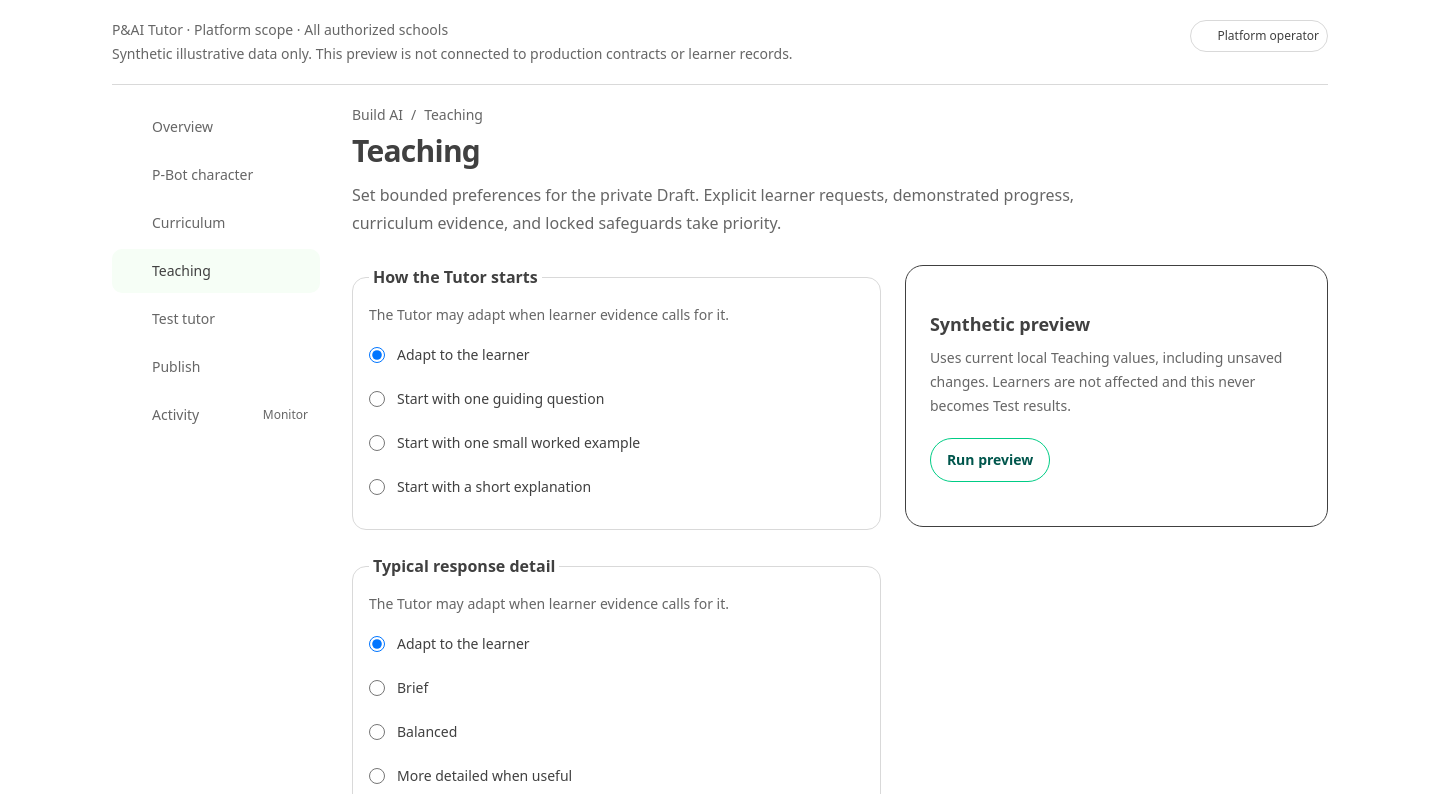
it: Build AI state transitions › keeps saved Teaching preferences across navigation and restores them on discard
The image size is (1440, 794).
Click the radio button labelled "Start with one guiding question" at (377,399), box 369,391 -> 385,407
(page scrolled)
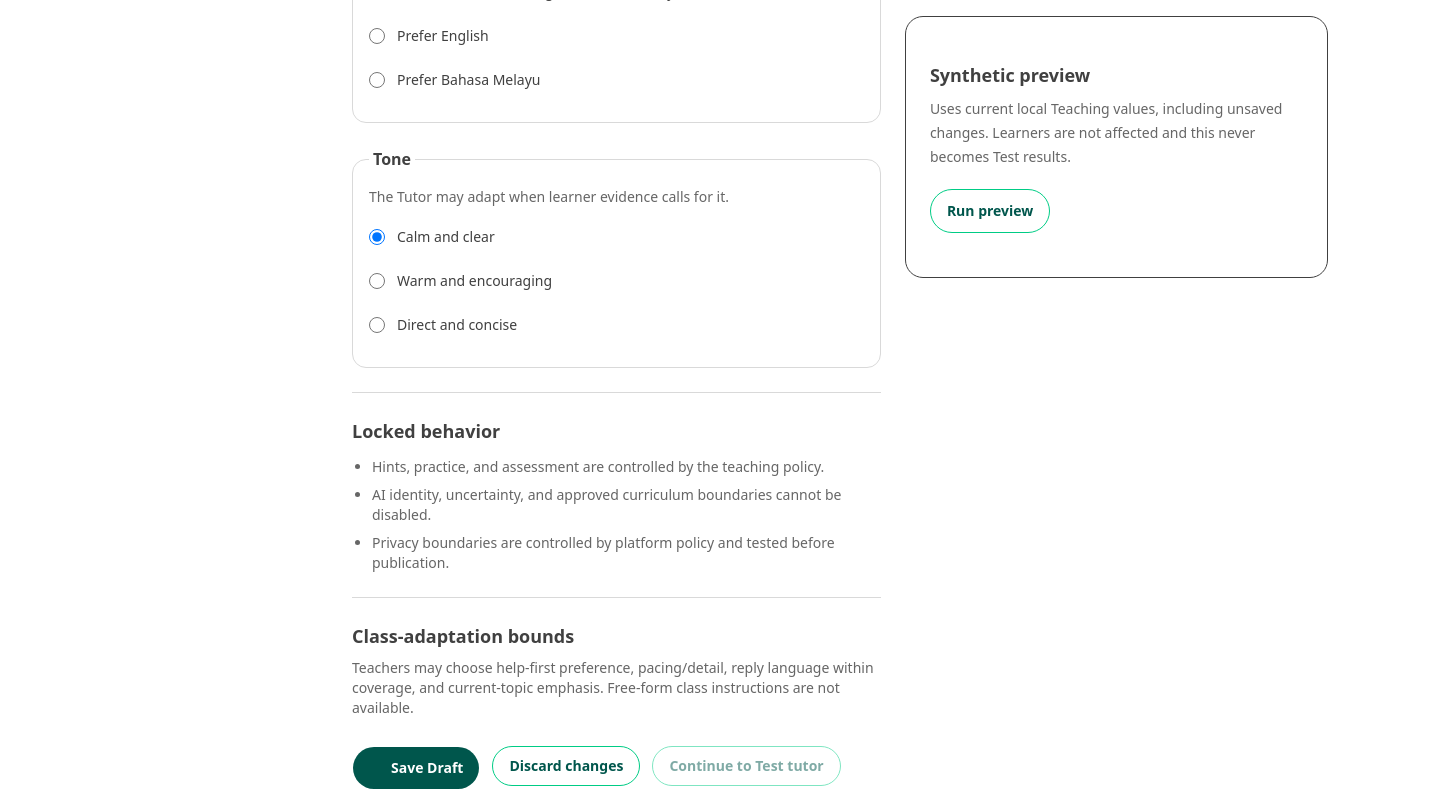
Click the button "Save Draft" at (416,768), box 352,746 -> 480,790
(page scrolled)
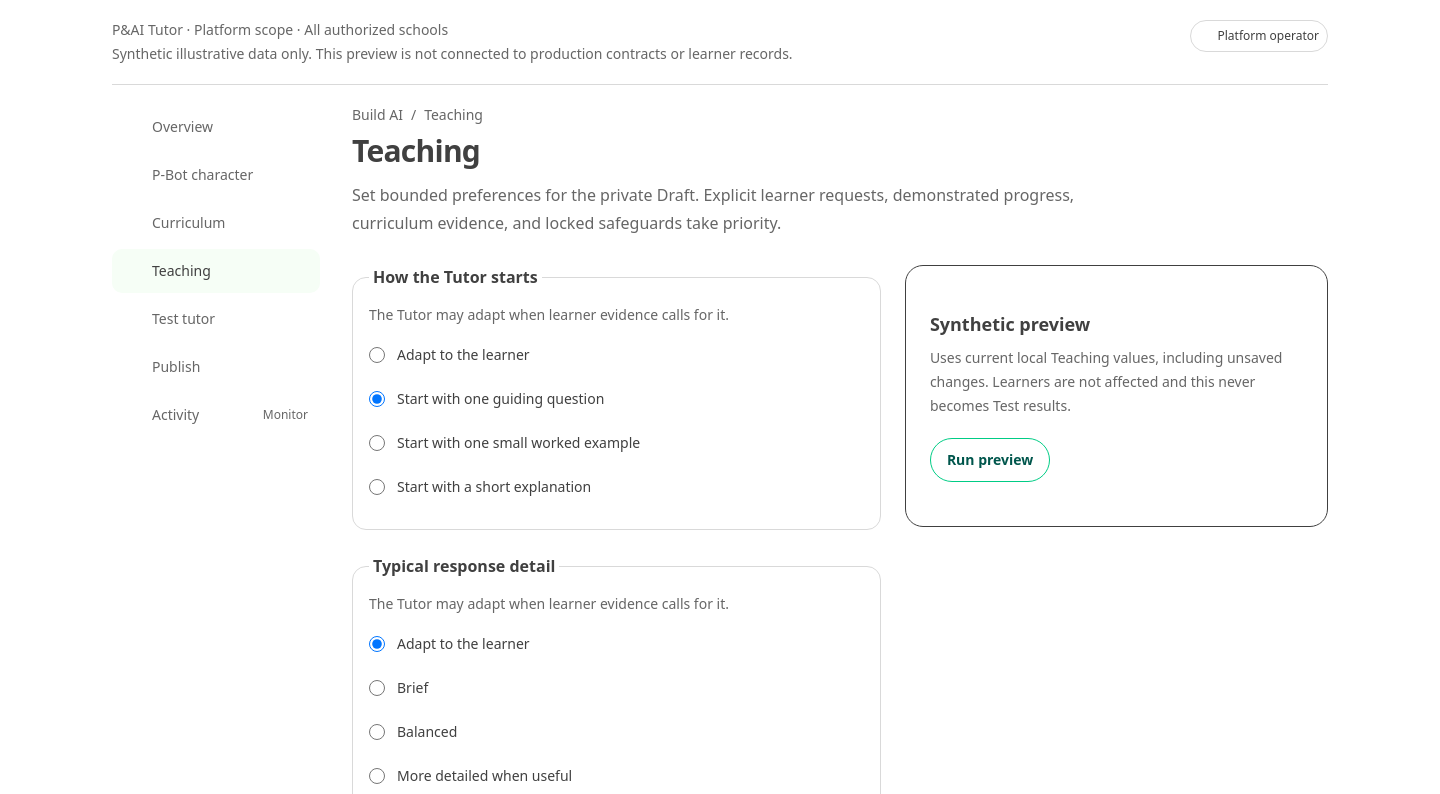
Click the link "Overview" at (169,126), box 124,117 -> 213,136
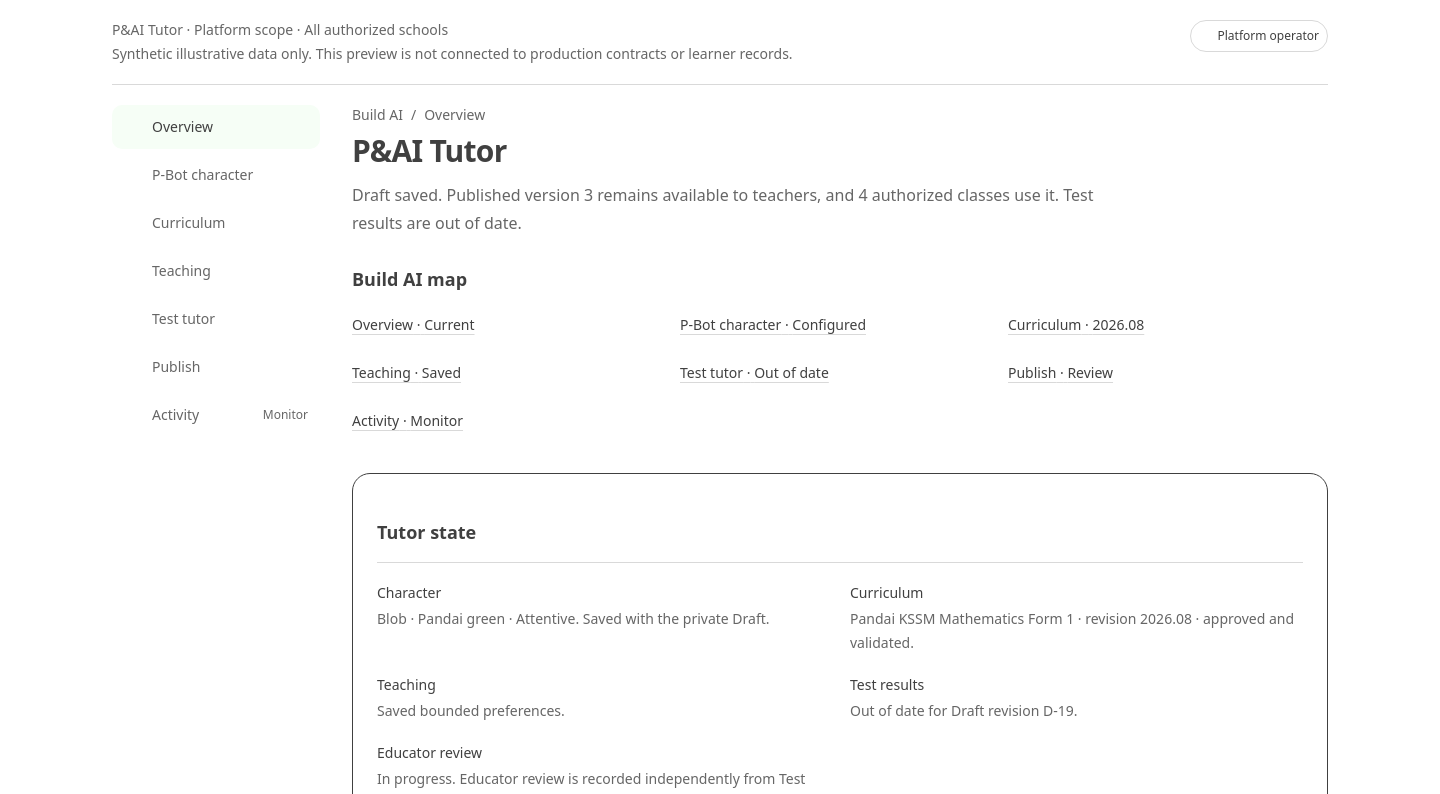
Click the link "Teaching" at (167,270), box 124,261 -> 211,280
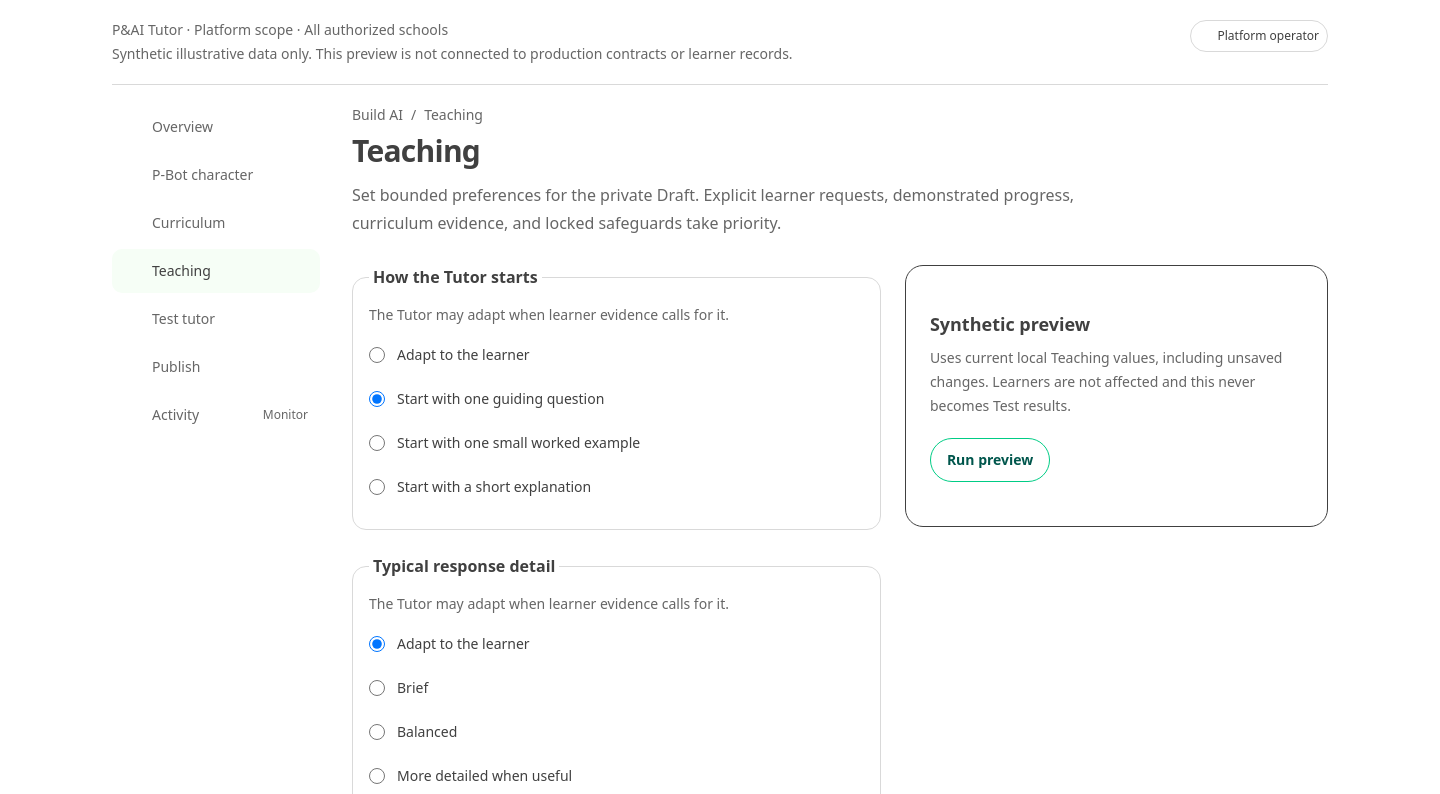
Check: the radio button labelled "Start with one guiding question" is checked, box 369,391 -> 385,407
Click the radio button labelled "Start with one small worked example" at (377,443), box 369,435 -> 385,451
(page scrolled)
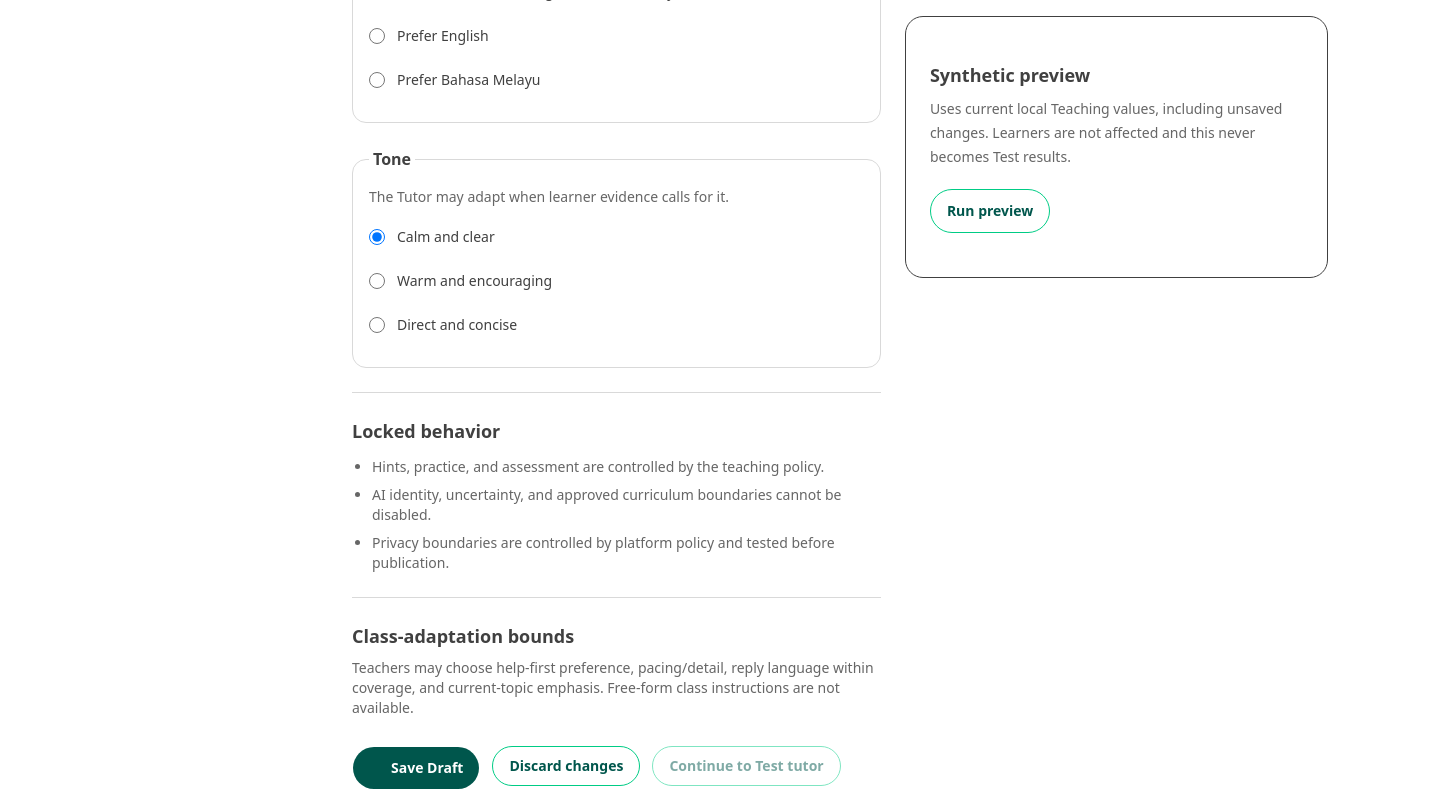
Click the button "Discard changes" at (566,766), box 492,746 -> 640,786
(page scrolled)
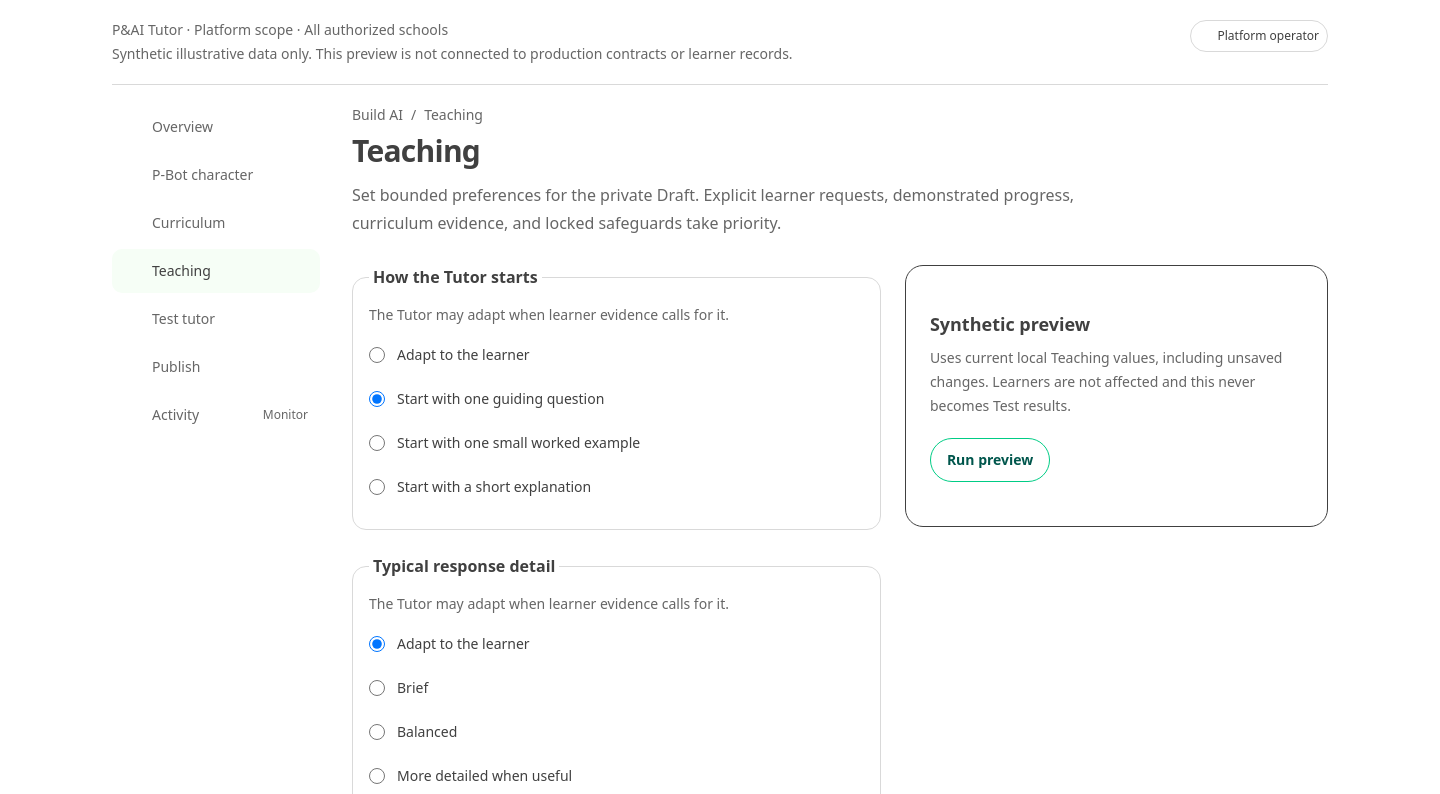
Check: the radio button labelled "Start with one guiding question" is checked, box 369,391 -> 385,407
